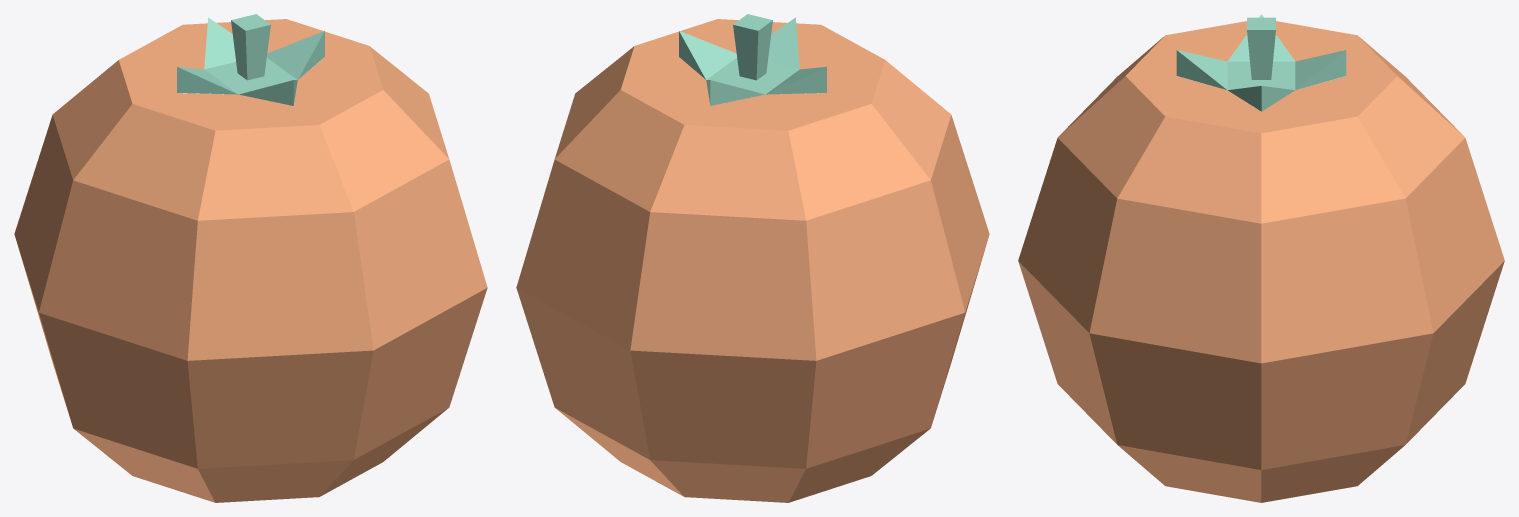
The model's file is orange.glb.
The picture shows the model from 3 angles, left to right: view 1: azimuth 30°, elevation 25°; view 2: azimuth 150°, elevation 25°; view 3: azimuth 270°, elevation 25°; orthographic projection.
Parts seen in each view (by area): view 1: orange; view 2: orange; view 3: orange.
Part boxes in pixels (x1,y1,x2,y2): orange: (14, 14, 487, 502); orange: (516, 14, 989, 502); orange: (1018, 14, 1504, 502).
Size of the model in its own units: 0.1697 by 0.1622 by 0.1697.
